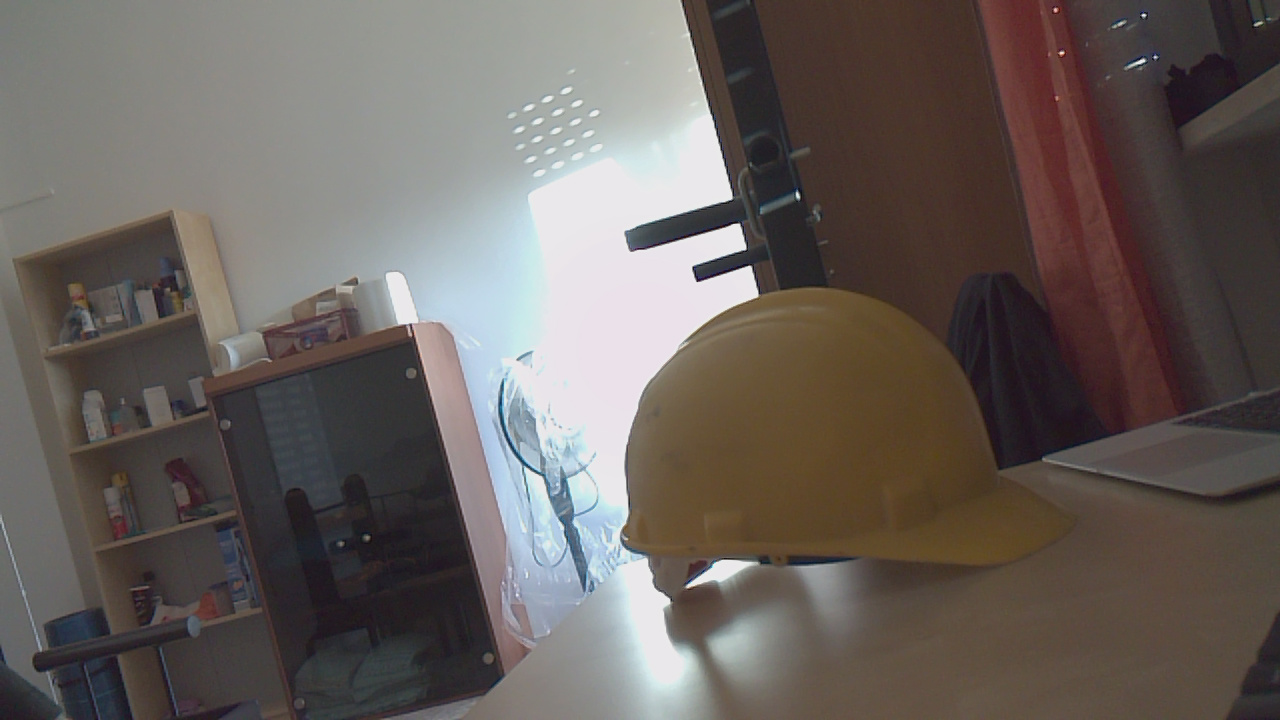Helmet: (616, 292, 1088, 611)
